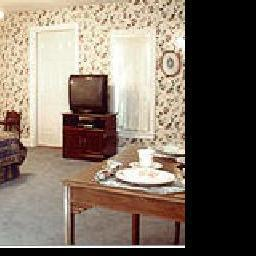Puerta: (33, 29, 74, 146)
